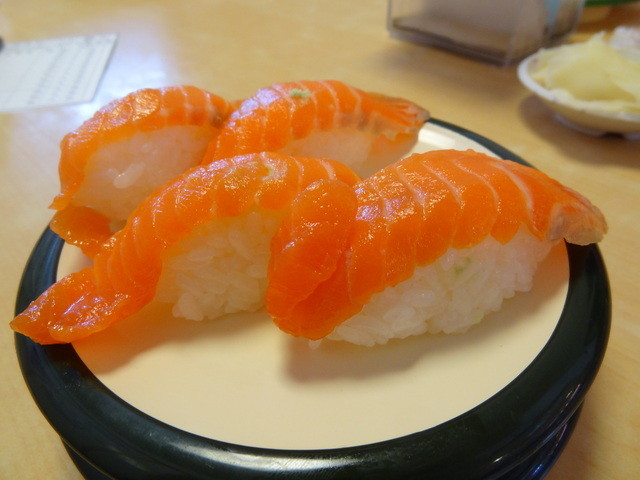salmon: (276, 150, 601, 336)
